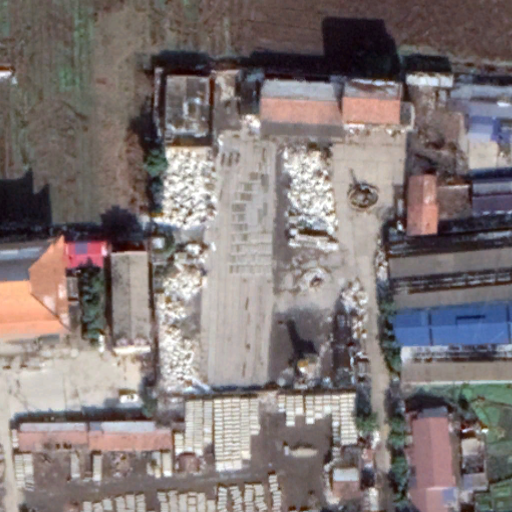msw: (155, 239, 215, 400), (284, 147, 336, 247), (160, 147, 211, 224)
